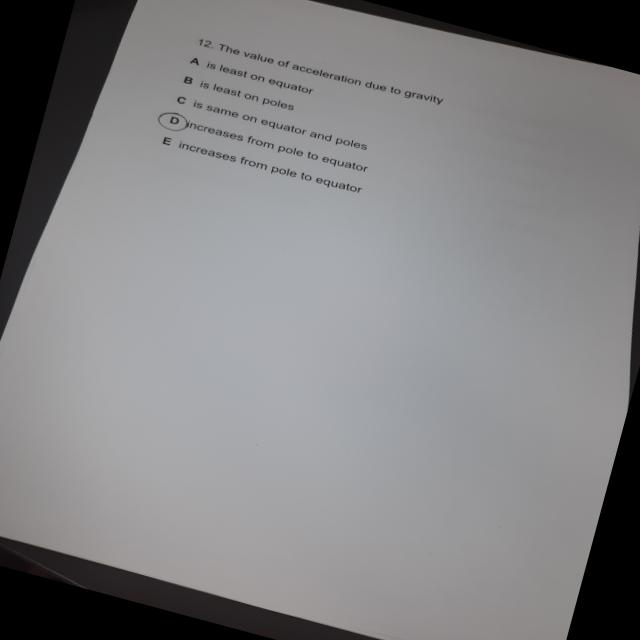D: (152, 105, 194, 136)
